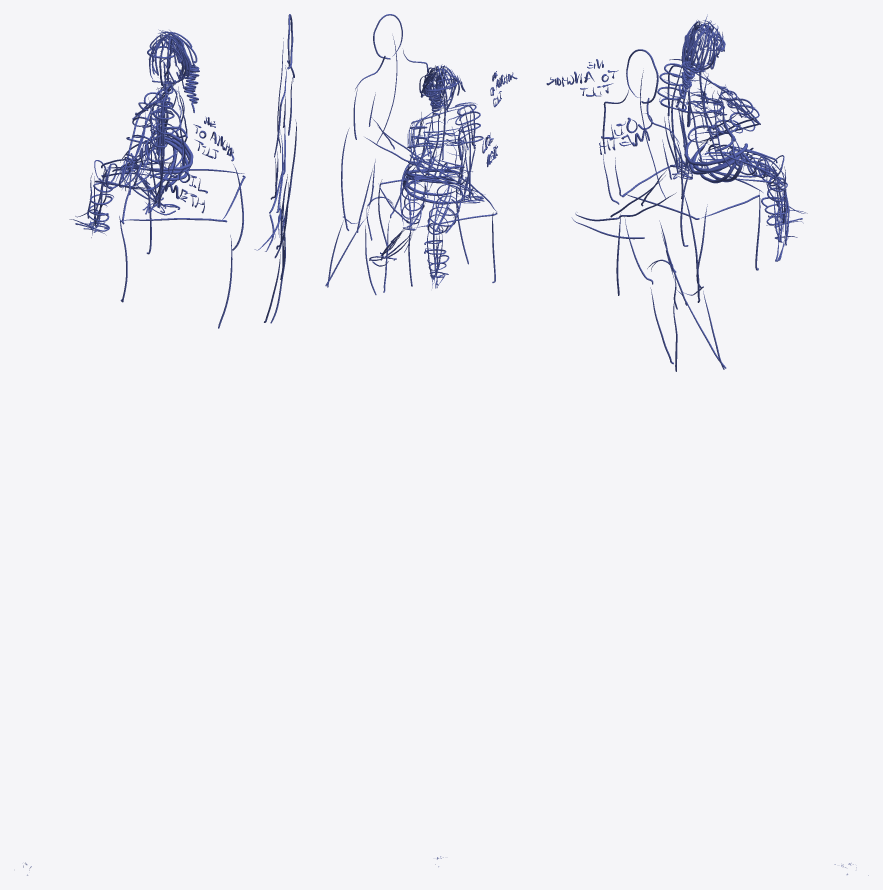
The picture shows the model from 3 angles, left to right: view 1: azimuth 30°, elevation 25°; view 2: azimuth 150°, elevation 25°; view 3: azimuth 270°, elevation 25°; orthographic projection. The views are drawn at different scales.
Parts seen in each view (by area): view 1: brush_Wire_g0_b0; view 2: brush_Wire_g0_b0; view 3: brush_Wire_g0_b0.
Part boxes in pixels (x1=…): brush_Wire_g0_b0: x1=69, y1=14, x2=296, y2=328; brush_Wire_g0_b0: x1=325, y1=14, x2=517, y2=294; brush_Wire_g0_b0: x1=546, y1=14, x2=807, y2=371.
Size of the model in its own units: 1.03 by 4.44 by 1.43.
